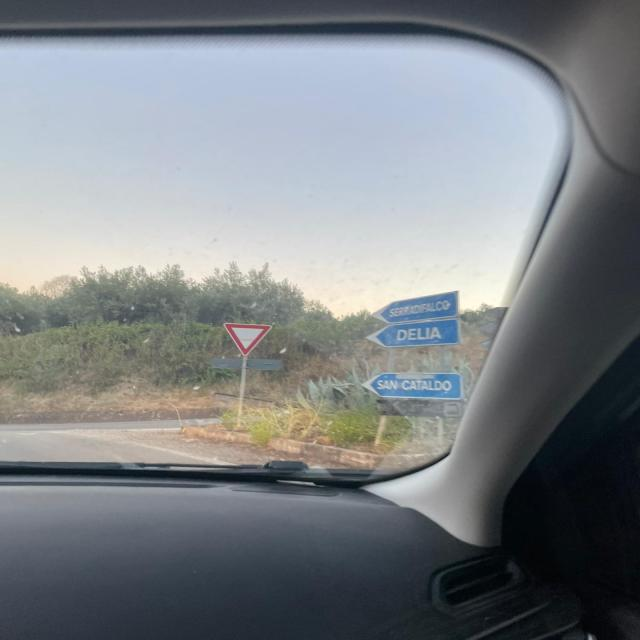prio_give_way: (223, 322, 273, 357)
